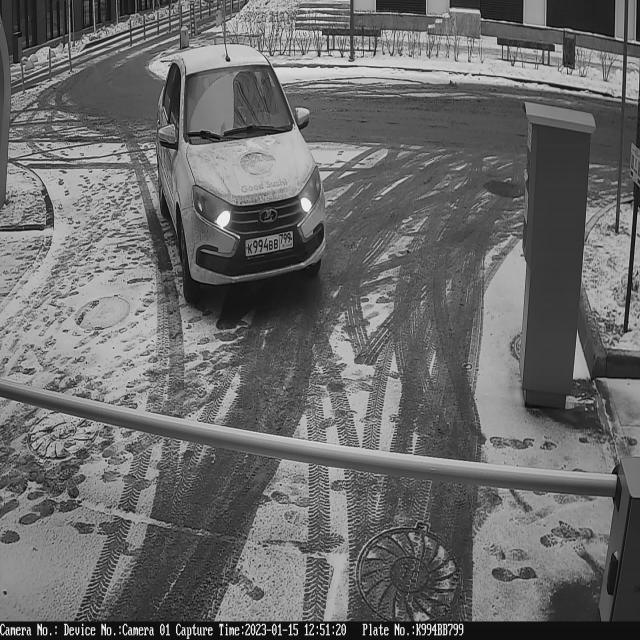car-plate-numbers: (243, 229, 296, 267)
